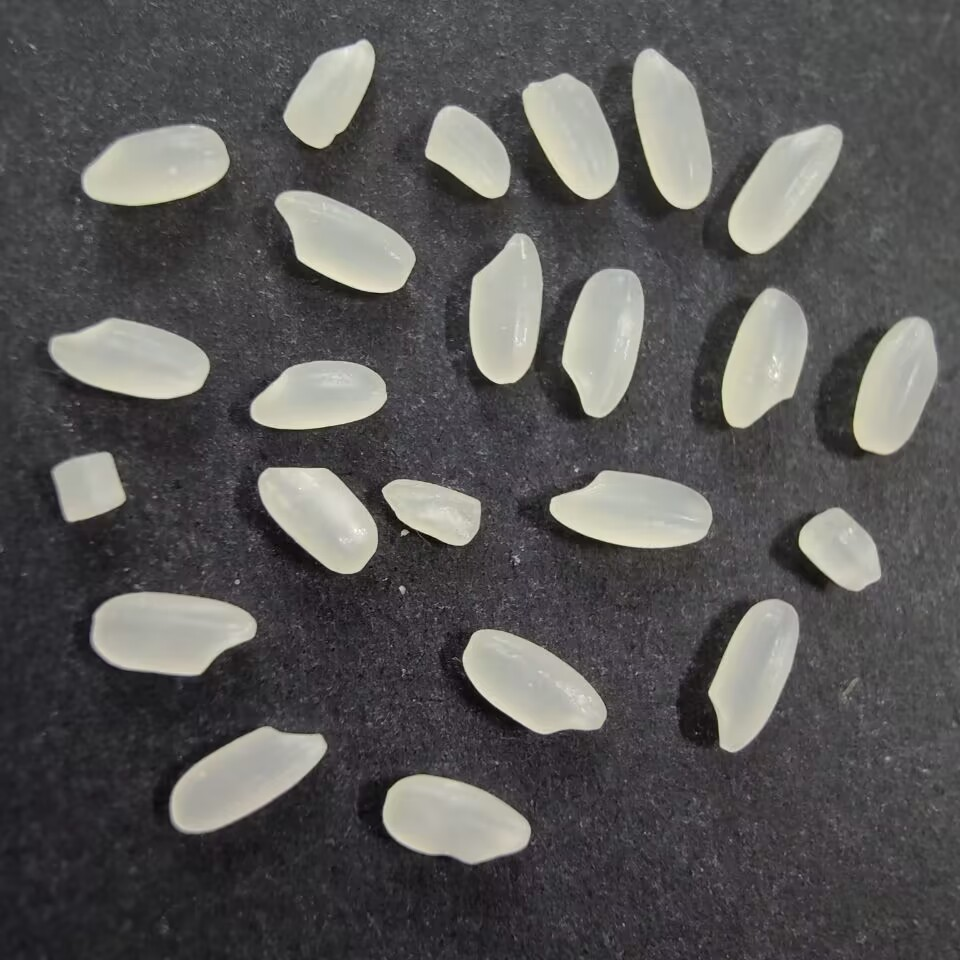broken: (279, 36, 382, 153), (423, 104, 513, 199), (796, 501, 886, 594), (377, 477, 486, 549), (47, 448, 126, 528)
rice: (167, 725, 332, 841), (459, 623, 609, 739), (703, 596, 804, 754), (269, 190, 420, 295), (727, 123, 845, 256), (88, 591, 257, 683), (546, 464, 719, 551), (629, 43, 718, 211), (376, 773, 535, 867), (518, 70, 624, 207), (254, 462, 381, 575), (556, 263, 646, 419), (848, 313, 943, 458), (76, 120, 230, 209), (47, 317, 212, 400), (719, 285, 813, 429), (466, 229, 544, 389), (243, 354, 390, 434)
